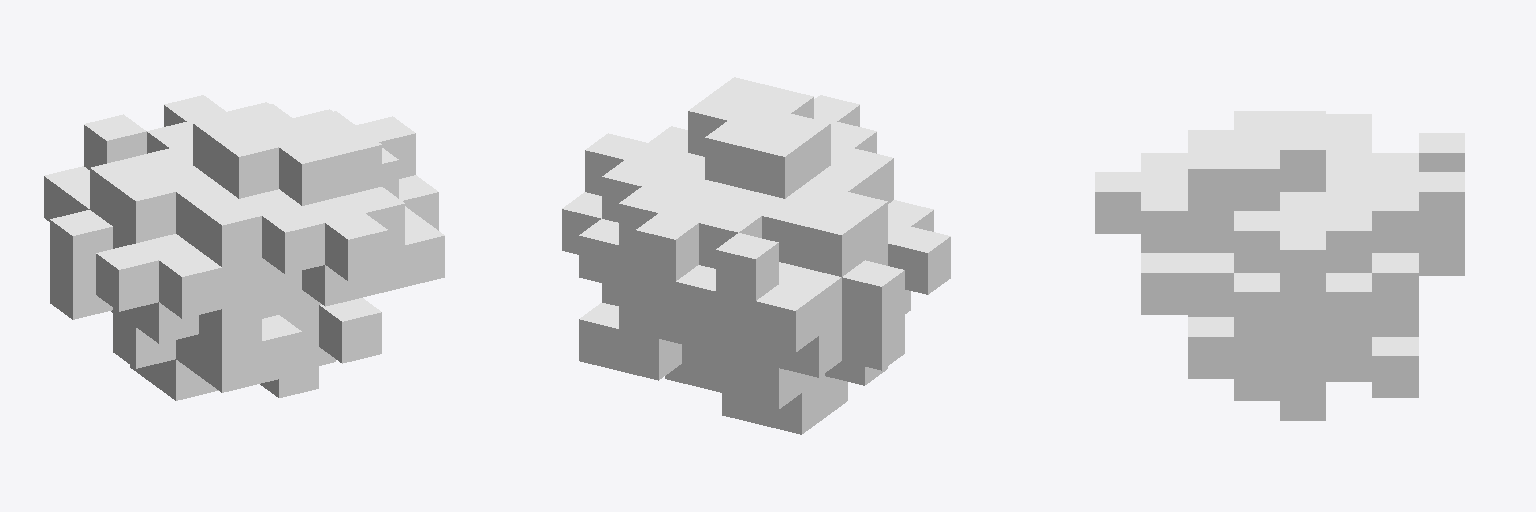
Rendered from cloud01.obj.
3 renders of one model, left to right at view 1: azimuth 30°, elevation 25°; view 2: azimuth 150°, elevation 25°; view 3: azimuth 270°, elevation 25°, orthographic.
Bounding box in the file's own units: 8 × 6 × 8.